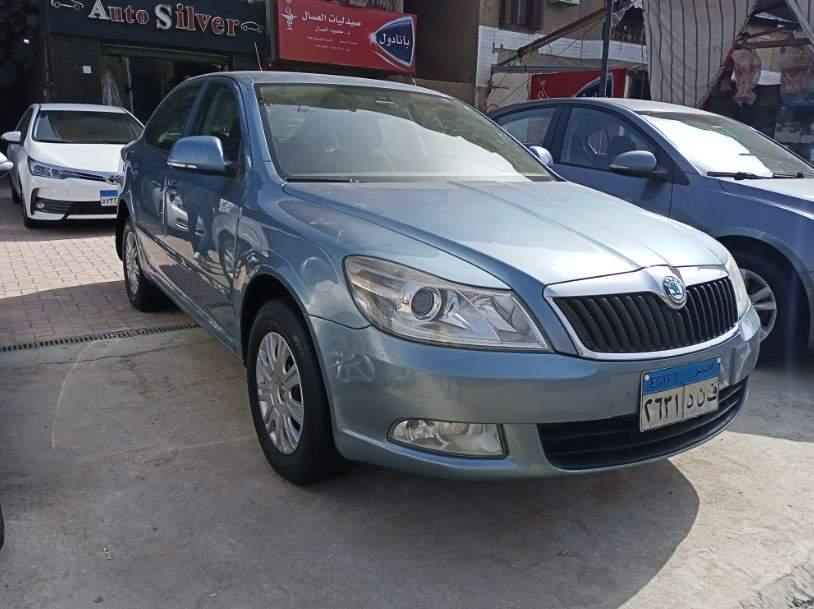Toyota: (104, 169, 127, 193)
skoda: (650, 269, 695, 314)
